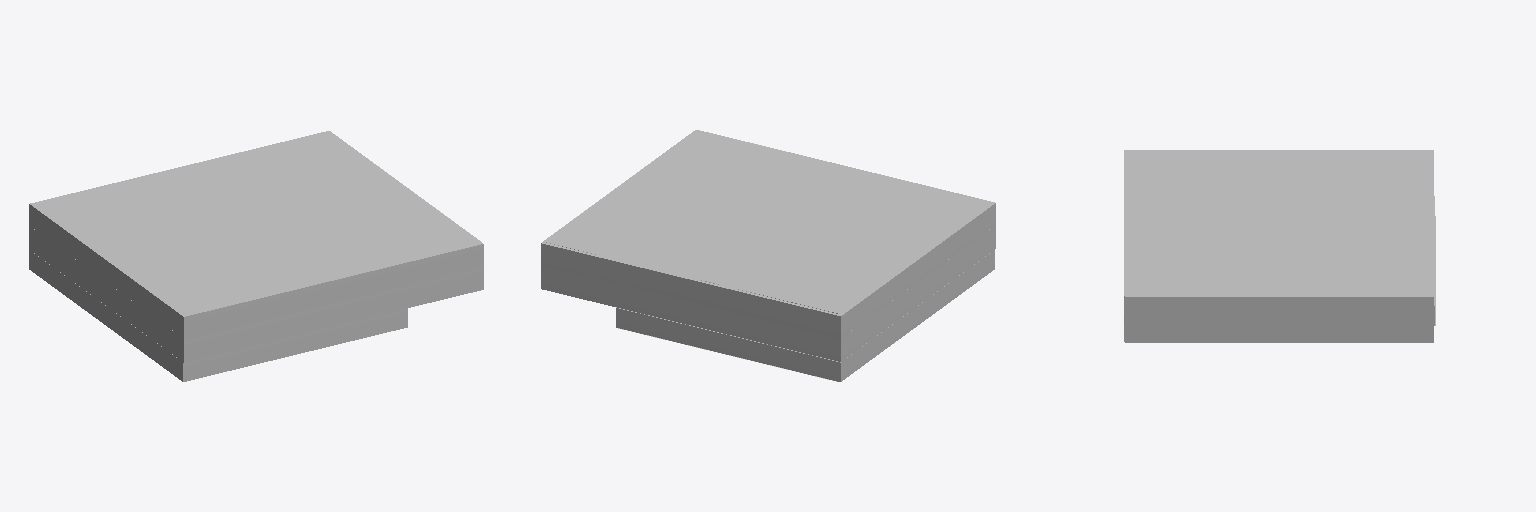
Rendered from hotel.obj.
The picture shows the model from 3 angles: view 1: azimuth 30°, elevation 25°; view 2: azimuth 150°, elevation 25°; view 3: azimuth 270°, elevation 25°; orthographic projection.
Parts seen in each view (by area): view 1: default; view 2: default; view 3: default.
Boxes of the visible parts, box(x1,y1,x2,y2) form: default: box(29, 131, 483, 381); default: box(541, 130, 995, 381); default: box(1124, 150, 1435, 342).
Bounding box in the file's own units: 186 × 39.26 × 167.